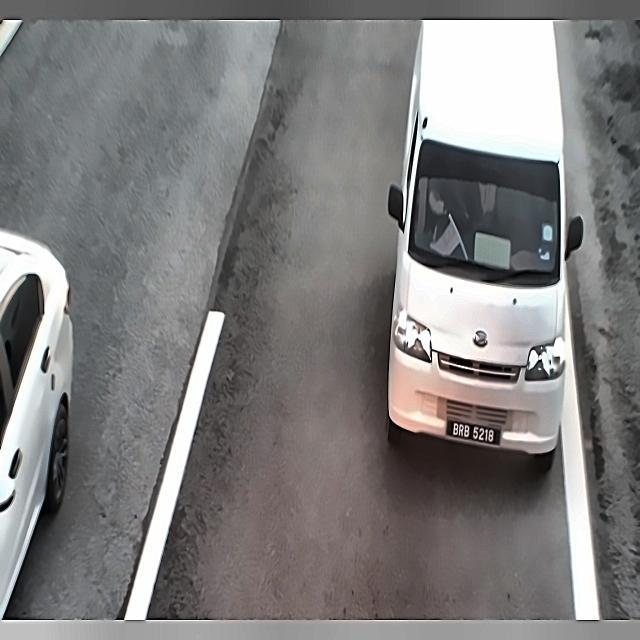car: (440, 411, 503, 449)
